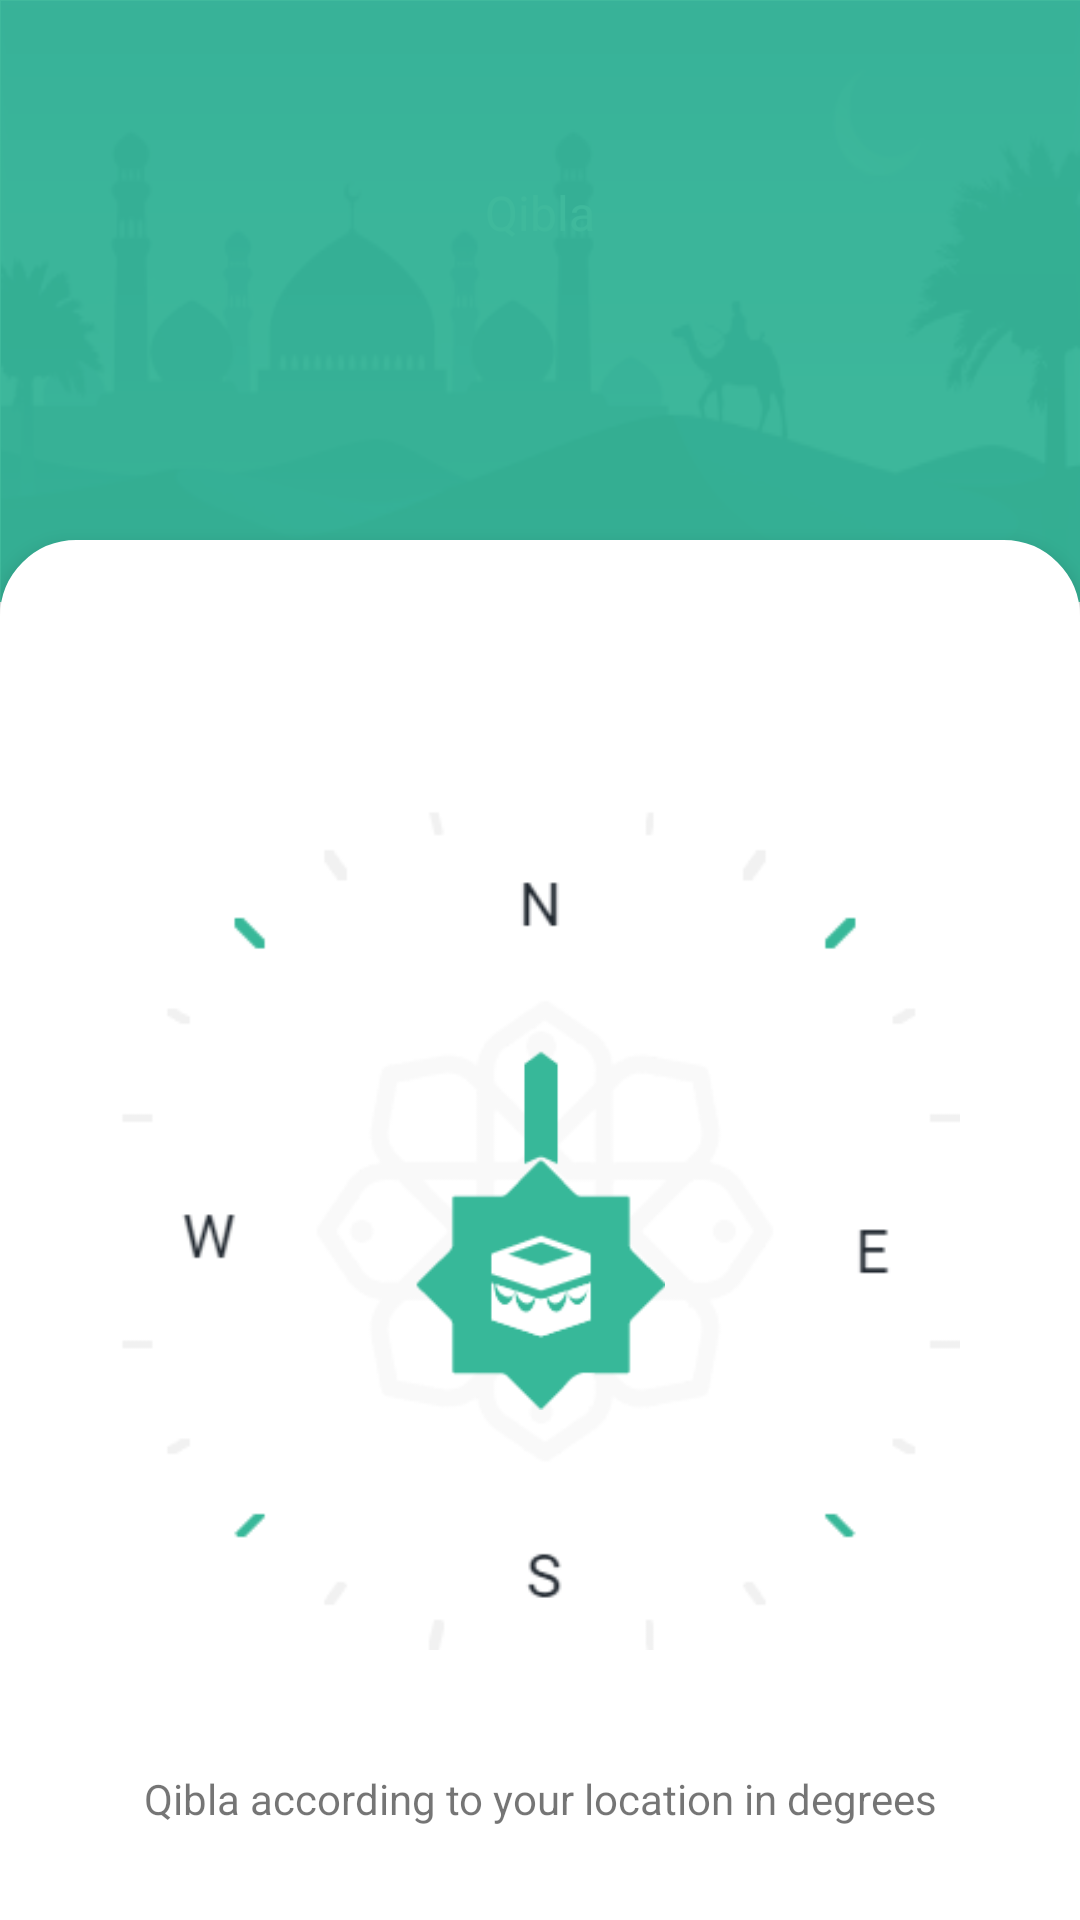

Icon bounding boxes for this 1080 x 1920 phone screenshot, format (x1, y1, x2, y2):
qibla: (416, 1051, 665, 1410)
